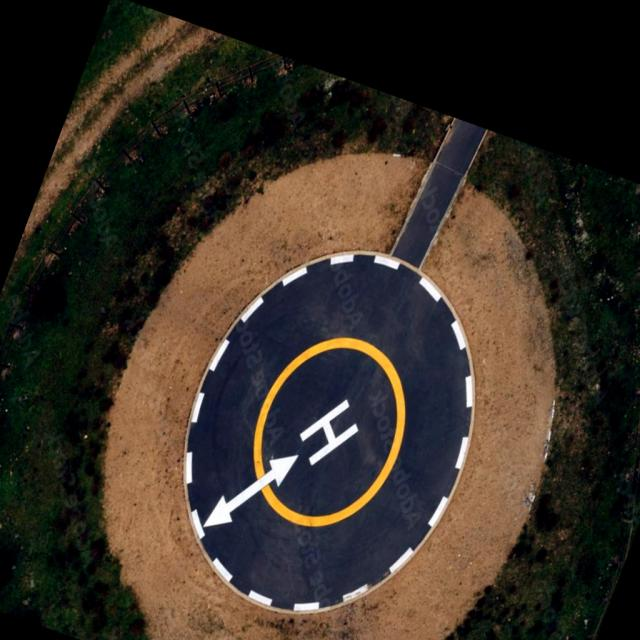helipad: (246, 334, 408, 534)
